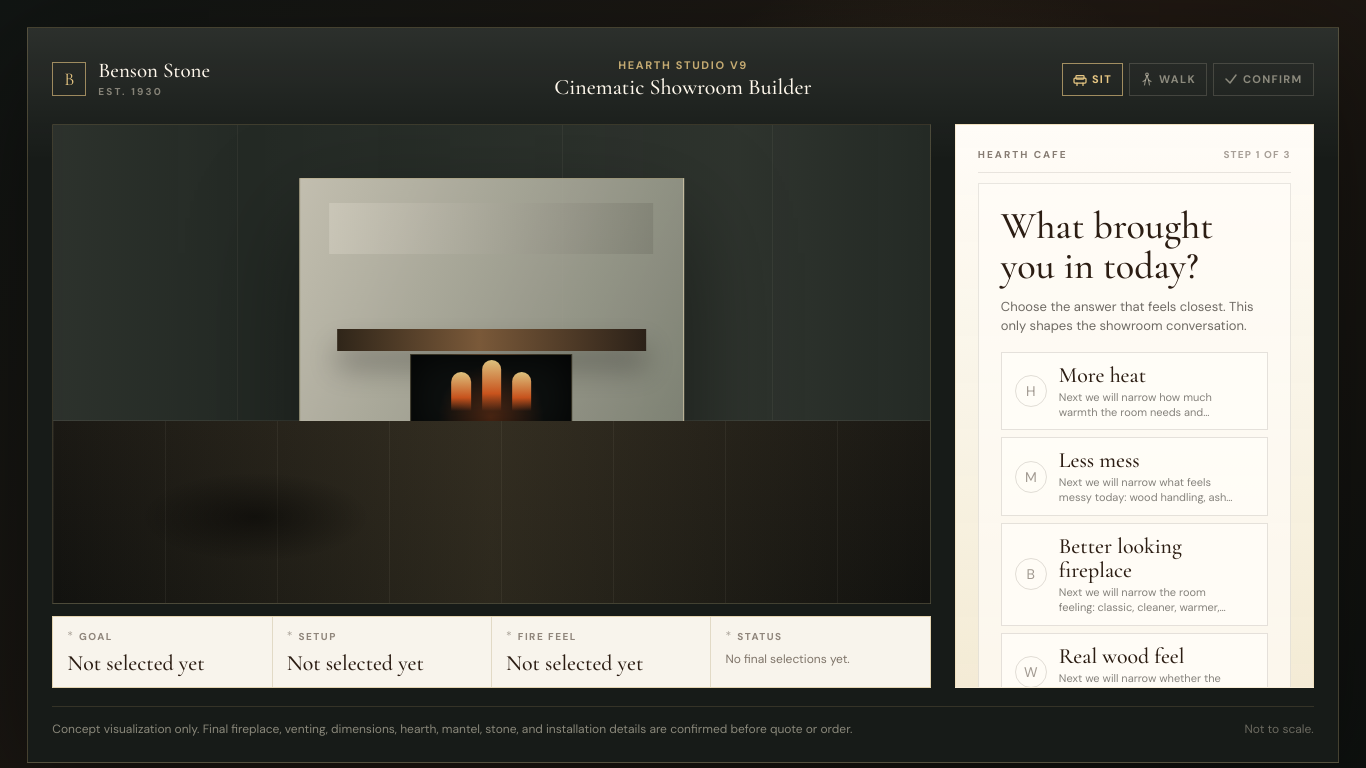
Test case: Hearth Studio V9 visual shell › updates the summary after selecting an answer
Click the button "More heat": [1134, 391] box left=1001, top=352, right=1268, bottom=430
(page scrolled)
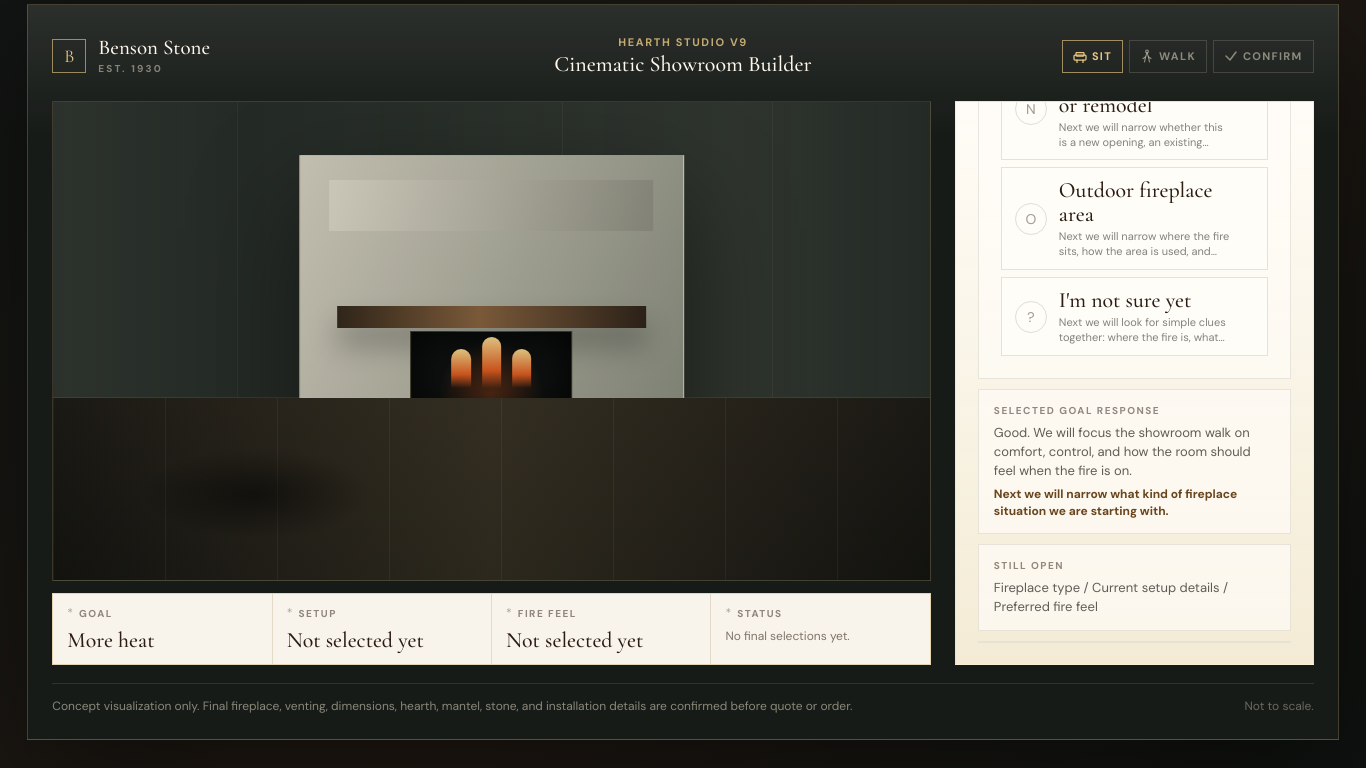
expect the element named "Customer-safe session summary" shows "No final selections yet.": met, box left=726, top=628, right=850, bottom=644
expect the element named "Customer-safe session summary" shows "More heat": met, box left=67, top=627, right=154, bottom=653
expect the text "Fireplace type / Current setup details / Preferred fire feel" is shown: met, box left=994, top=579, right=1228, bottom=615
